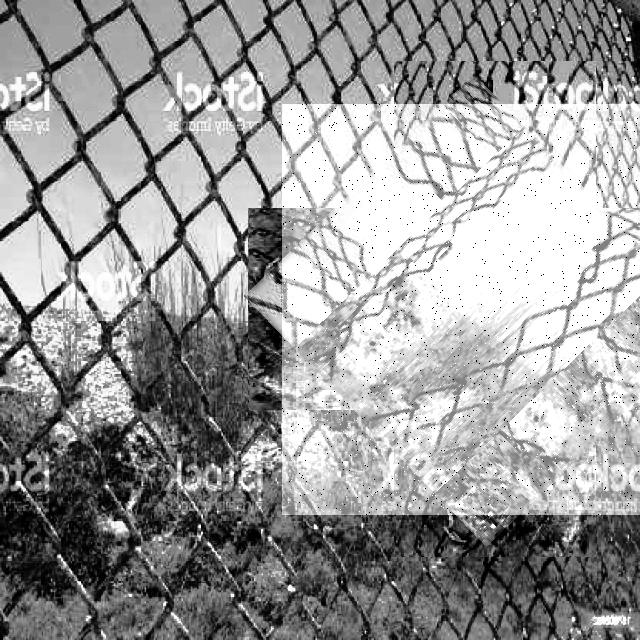anomaly-fence: (282, 104, 640, 515)
